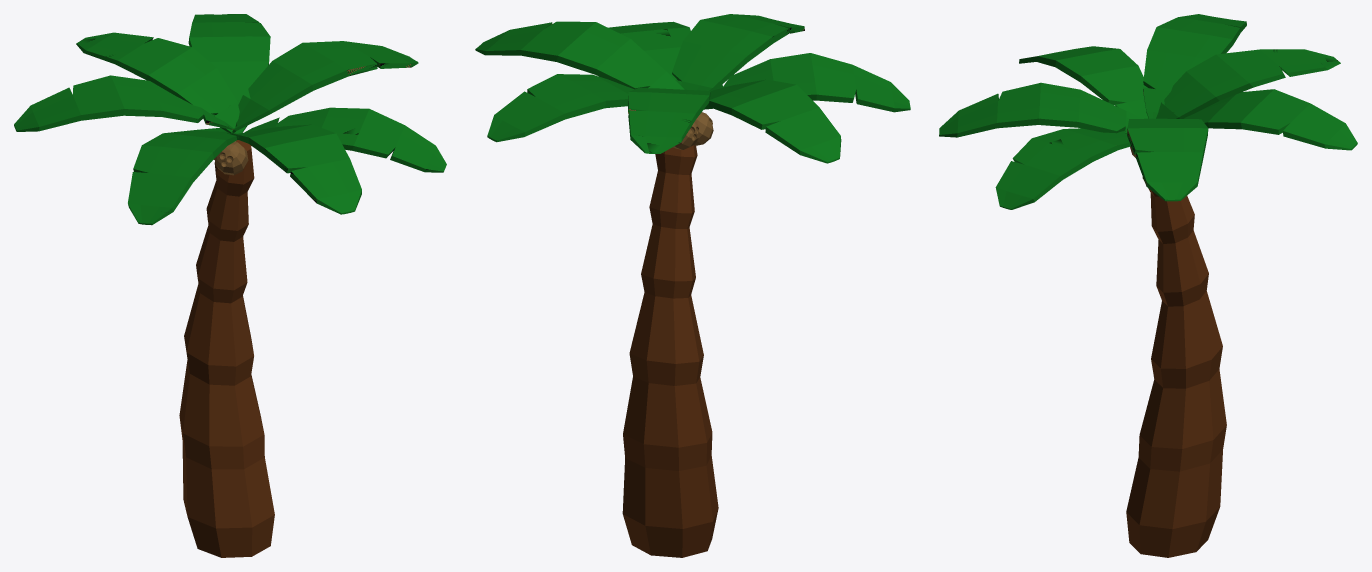
Rendered from coqueiro.fbx.
3 renders of one model, left to right at view 1: azimuth 30°, elevation 25°; view 2: azimuth 150°, elevation 25°; view 3: azimuth 270°, elevation 25°, orthographic. The views are drawn at different scales.
Visible parts, largest first — view 1: Esfera UV.001; view 2: Esfera UV.001; view 3: Esfera UV.001.
Boxes of the visible parts, x1,y1,x2,y2 form: Esfera UV.001: (14, 14, 446, 557); Esfera UV.001: (475, 14, 910, 557); Esfera UV.001: (939, 14, 1357, 557).
Size of the model in its own units: 3.61 by 4.3 by 3.54.
1 material, 1 textured.
